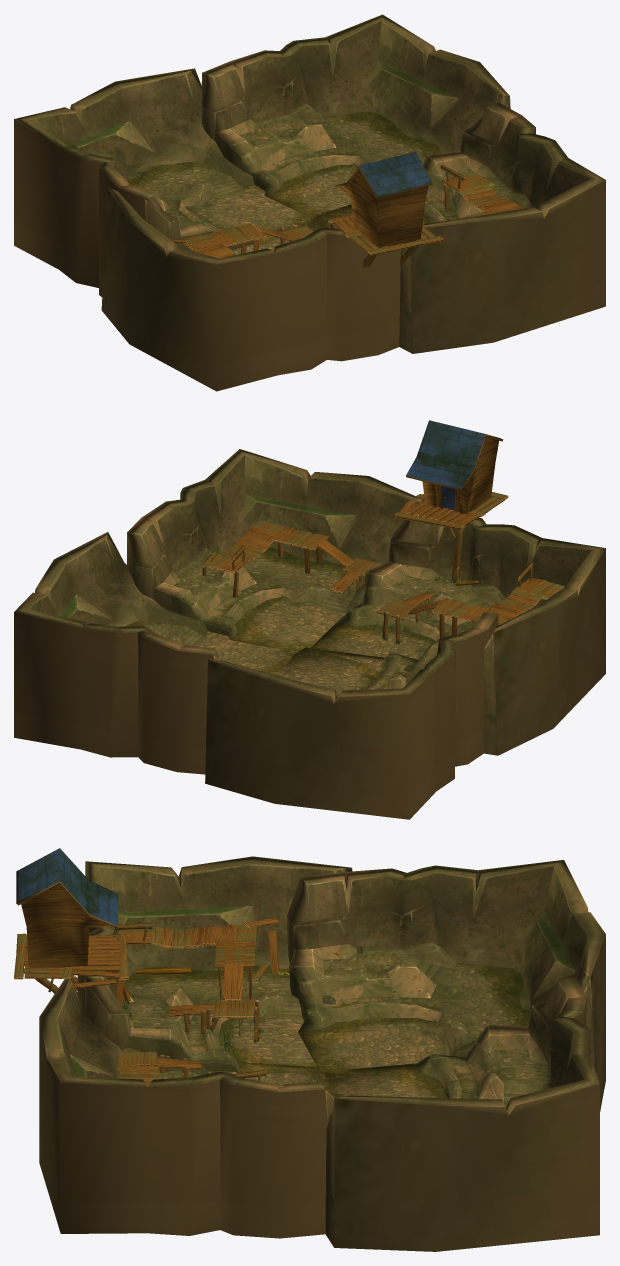
File: MyGameStage100.fbx
3 views of the same model, one above another, from view 1: azimuth 30°, elevation 25°; view 2: azimuth 150°, elevation 25°; view 3: azimuth 270°, elevation 25° (orthographic). The views are drawn at different scales.
Parts seen in each view (by area): view 1: Sketchfab_model_c0ec2f9e55834f34a3ddc627524b49a7.fbx_RootNod; view 2: Sketchfab_model_c0ec2f9e55834f34a3ddc627524b49a7.fbx_RootNod; view 3: Sketchfab_model_c0ec2f9e55834f34a3ddc627524b49a7.fbx_RootNod.
Boxes of the visible parts, left/top/right/bottom form: Sketchfab_model_c0ec2f9e55834f34a3ddc627524b49a7.fbx_RootNod: left=14, top=14, right=605, bottom=391; Sketchfab_model_c0ec2f9e55834f34a3ddc627524b49a7.fbx_RootNod: left=14, top=420, right=605, bottom=819; Sketchfab_model_c0ec2f9e55834f34a3ddc627524b49a7.fbx_RootNod: left=14, top=848, right=605, bottom=1251.
Bounding box in the file's own units: 353 × 159 × 354.
